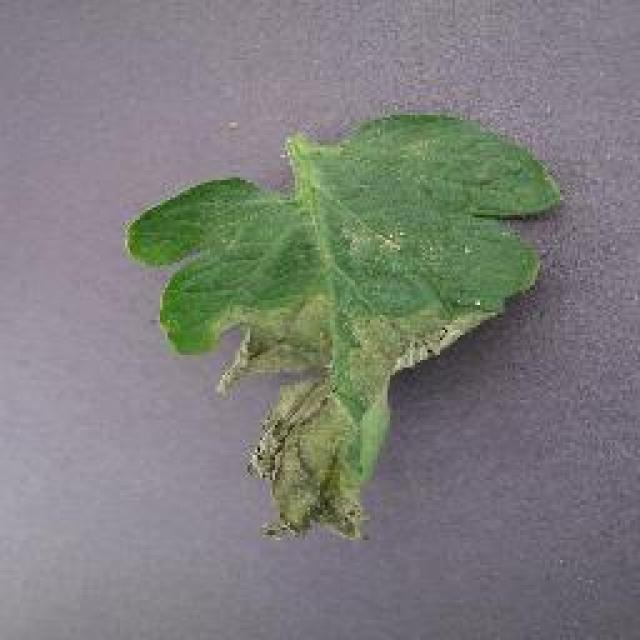Tomato Late Blight: (200, 248, 482, 577)
